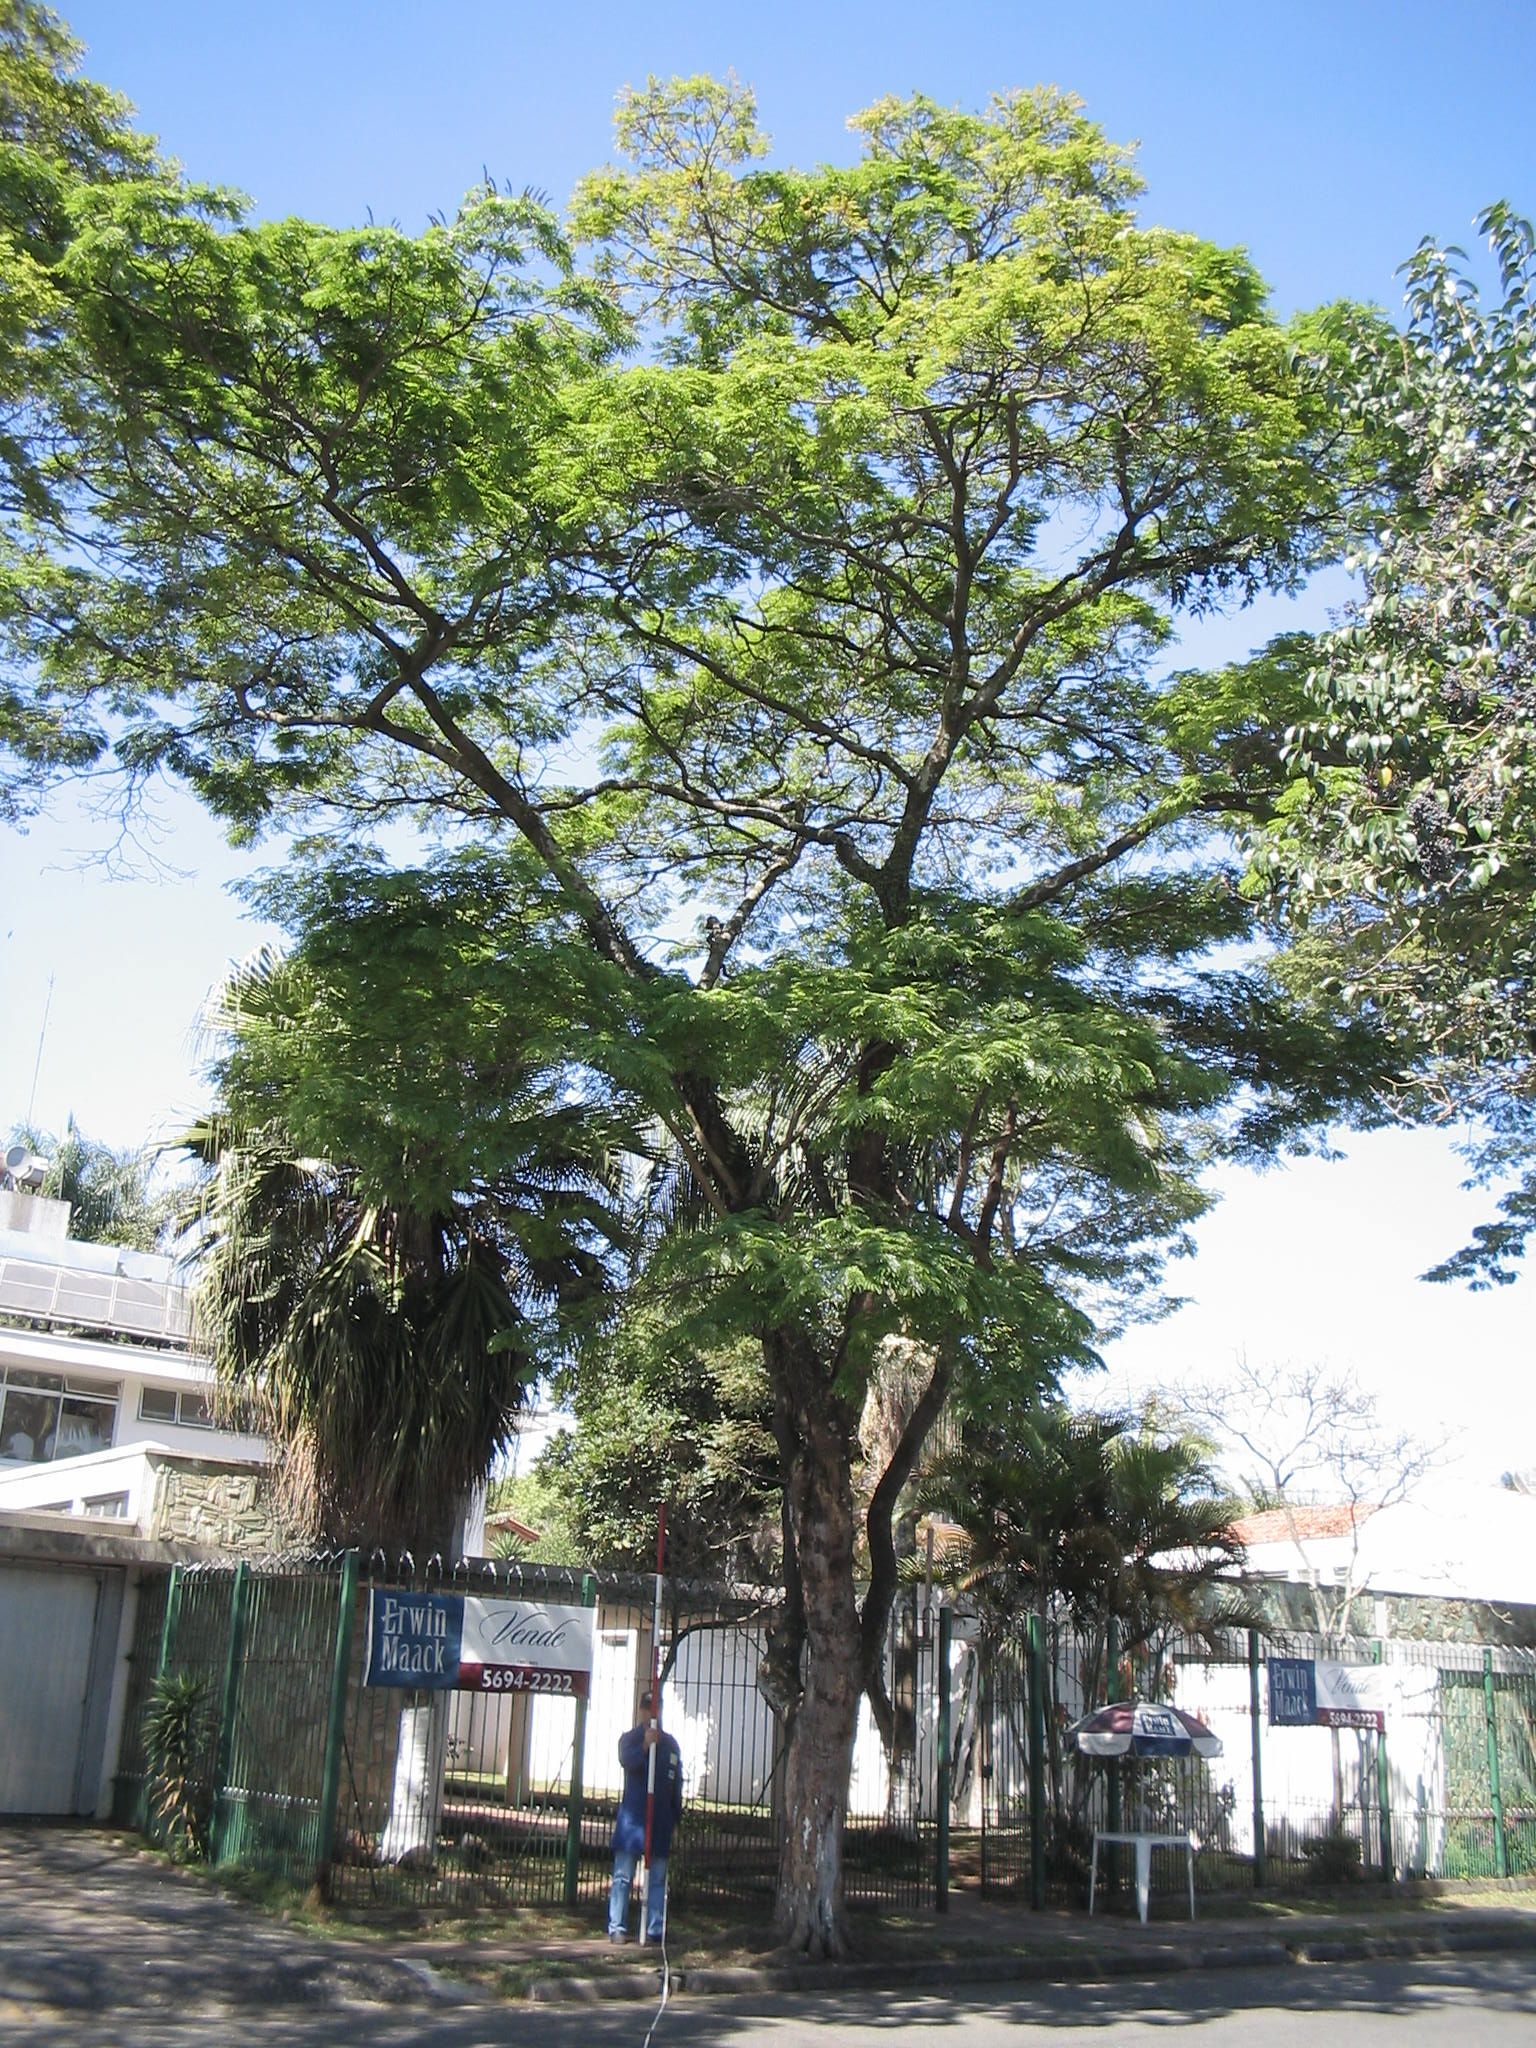crown: (15, 90, 1462, 1487)
stem: (750, 1650, 928, 1961)
stick: (610, 1500, 695, 1948)
tree: (6, 79, 1471, 1966)
